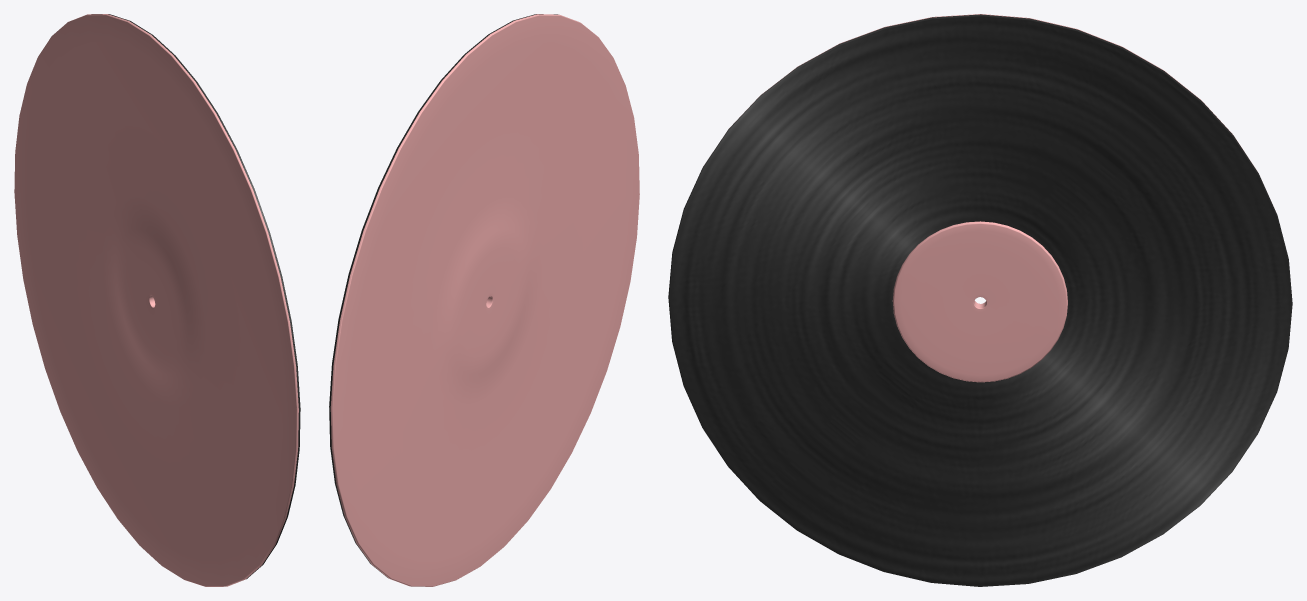
The model's file is Vinyl_L3.fbx.
3 views of the same model, side by side, from view 1: azimuth 30°, elevation 25°; view 2: azimuth 150°, elevation 25°; view 3: azimuth 270°, elevation 25° (orthographic). The views are drawn at different scales.
Parts seen in each view (by area): view 1: Vinyl_L_3; view 2: Vinyl_L_3; view 3: Vinyl_L_3.
Part boxes in pixels (<box>): Vinyl_L_3: <box>14,14,300,586</box>; Vinyl_L_3: <box>329,14,639,586</box>; Vinyl_L_3: <box>668,14,1292,586</box>.
Size of the model in its own units: 0.1353 by 3.26 by 3.26.
2 materials, 1 textured.
